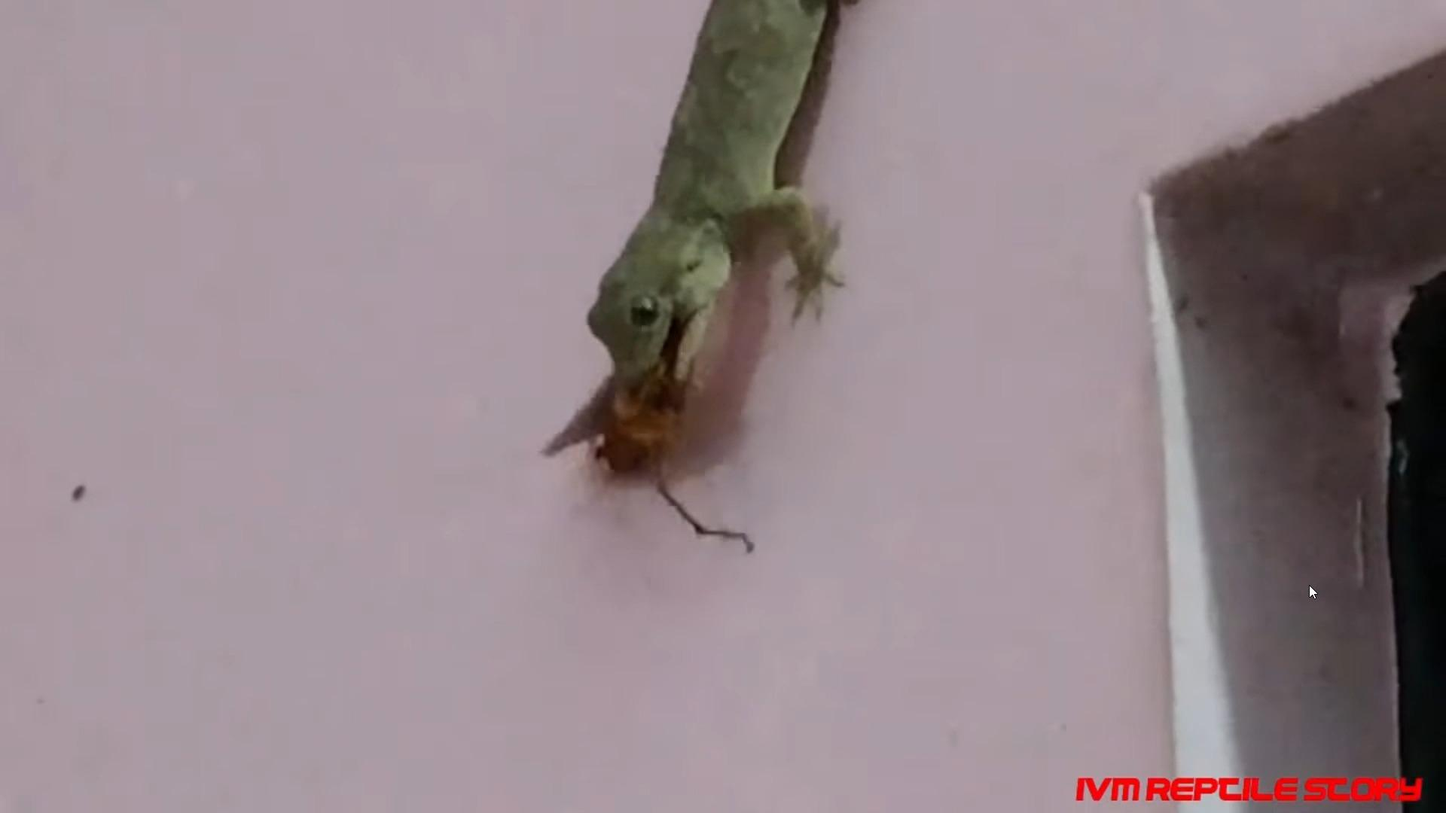cockroach: (563, 365, 697, 519)
lizard: (581, 21, 854, 385)
